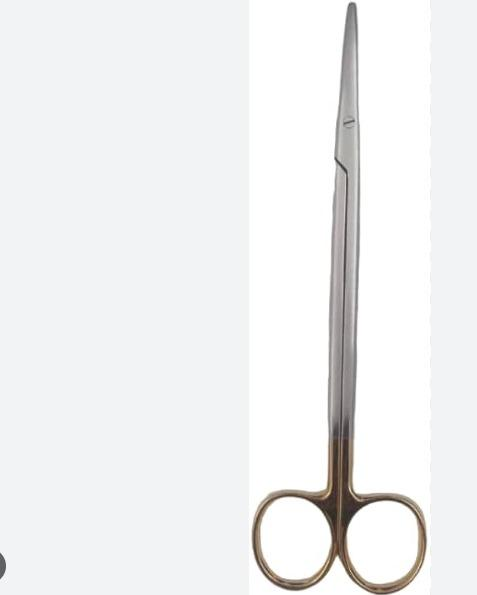Metzenbaum Sciccors: (251, 2, 429, 594)
